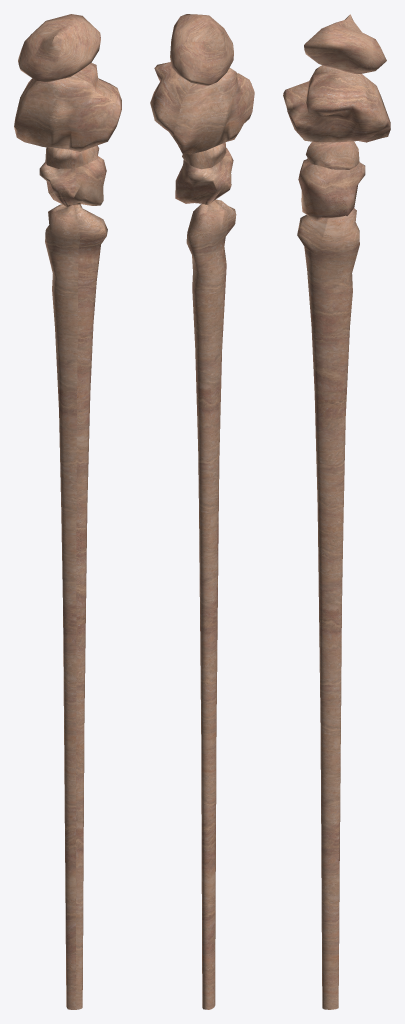
The model's file is Ob_RockPillar5.fbx.
3 renders of one model, left to right at view 1: azimuth 90°, elevation 25°; view 2: azimuth 150°, elevation 25°; view 3: azimuth 270°, elevation 25°, orthographic.
Parts seen in each view (by area): view 1: Ob_RockPillar5; view 2: Ob_RockPillar5; view 3: Ob_RockPillar5.
Part boxes in pixels (box(x1,y1,x2,y2)): Ob_RockPillar5: box(14, 14, 121, 1009); Ob_RockPillar5: box(150, 14, 254, 1009); Ob_RockPillar5: box(283, 14, 390, 1009).
Size of the model in its own units: 9064 by 109630 by 10882.
